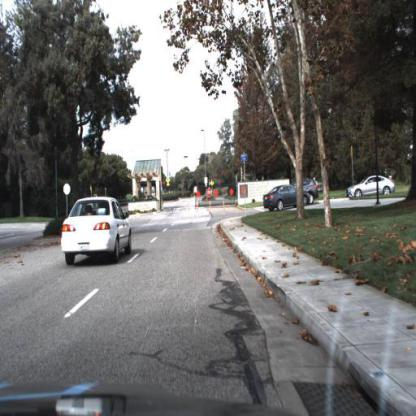car: (60, 195, 134, 268), (347, 174, 398, 203), (262, 184, 313, 211), (349, 176, 397, 203), (297, 177, 322, 202)
